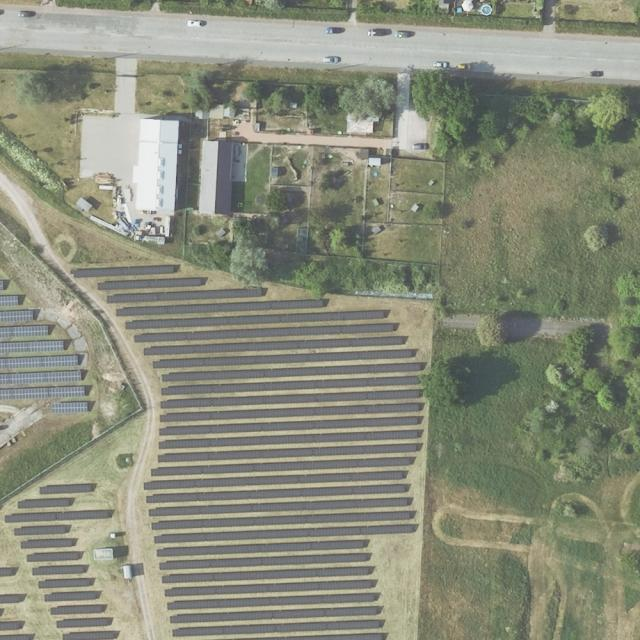PV: (72, 264, 421, 639), (4, 484, 114, 640), (0, 280, 89, 413), (0, 621, 20, 631), (0, 594, 19, 603), (0, 635, 29, 640), (0, 567, 11, 577)
